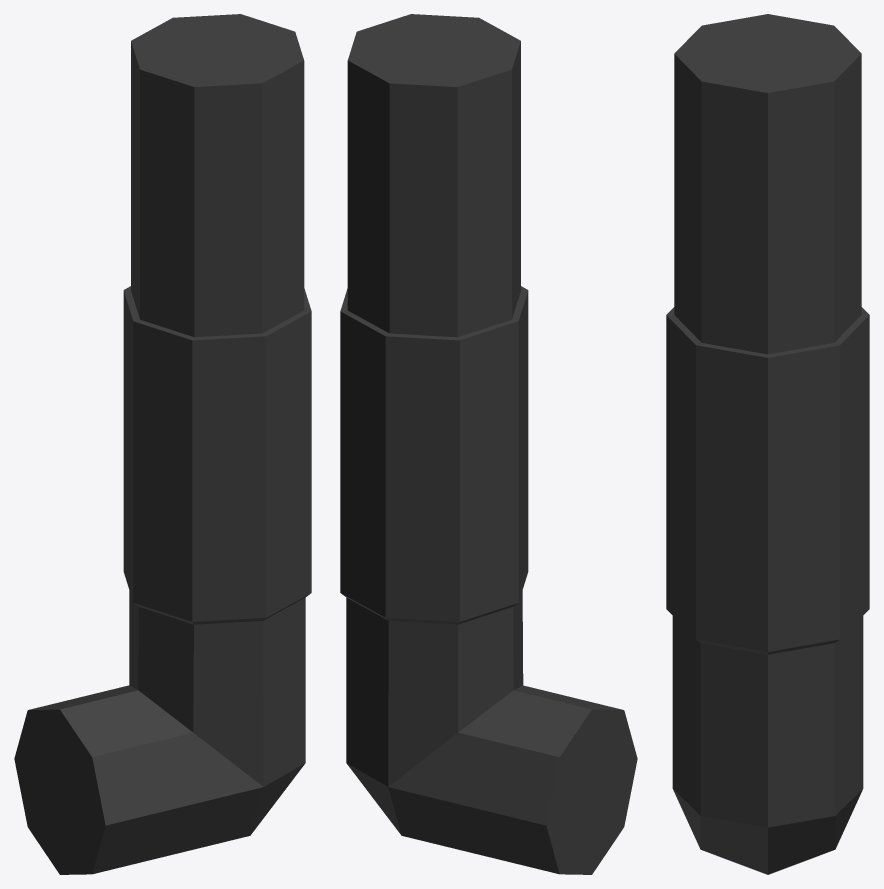
The model's file is woodstovepipe01.obj.
The picture shows the model from 3 angles, left to right: view 1: azimuth 30°, elevation 25°; view 2: azimuth 150°, elevation 25°; view 3: azimuth 270°, elevation 25°; orthographic projection. The views are drawn at different scales.
Visible parts, largest first — view 1: Cylinder; view 2: Cylinder; view 3: Cylinder.
Part boxes in pixels (box(x1,y1,x2,y2)): Cylinder: box(14, 14, 311, 874); Cylinder: box(340, 14, 637, 874); Cylinder: box(666, 14, 869, 874).
Bounding box in the file's own units: 0.3062 × 0.9504 × 0.2134.
